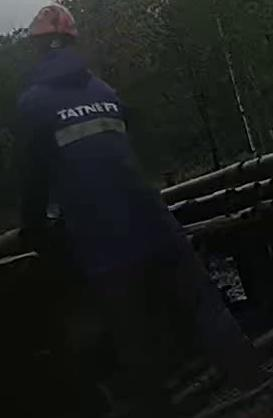helmet: (27, 2, 79, 39)
vest: (15, 63, 188, 256)
